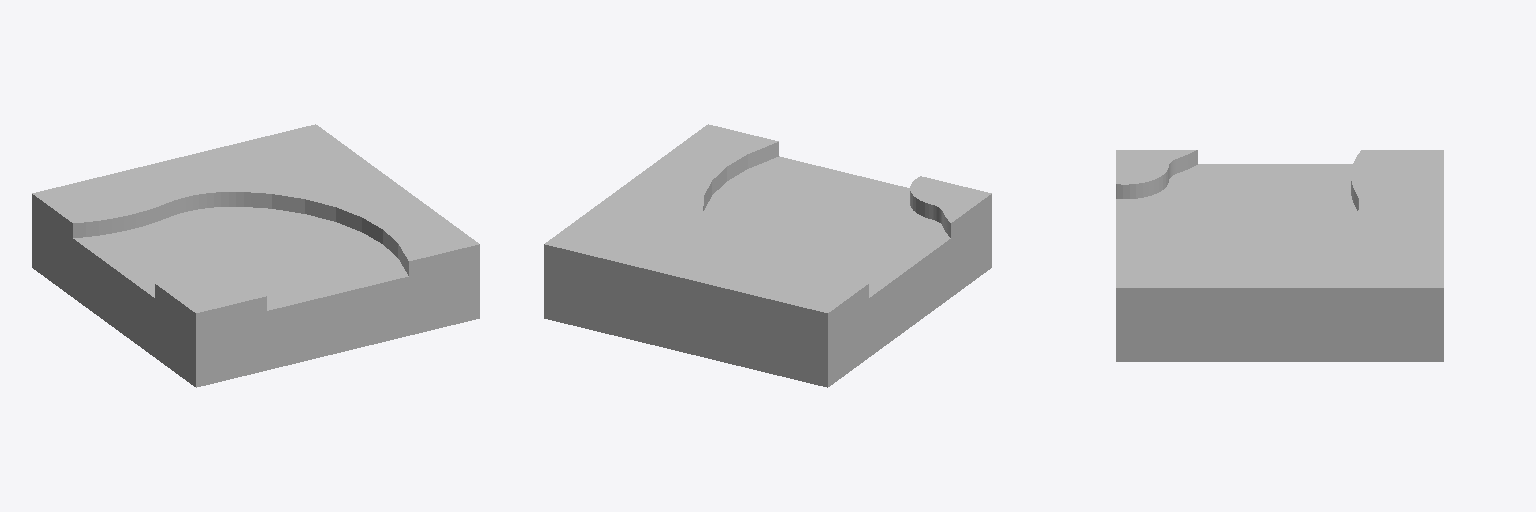
File: ground_dirtRiverCorner.obj
3 views of the same model, side by side, from view 1: azimuth 30°, elevation 25°; view 2: azimuth 150°, elevation 25°; view 3: azimuth 270°, elevation 25° (orthographic).
Parts seen in each view (by area): view 1: ground_dirtRiverCorner; view 2: ground_dirtRiverCorner; view 3: ground_dirtRiverCorner.
Part boxes in pixels (x1,y1,x2,y2): ground_dirtRiverCorner: (32,124,479,387); ground_dirtRiverCorner: (544,124,991,387); ground_dirtRiverCorner: (1116,150,1443,361).
Size of the model in its own units: 10 by 2.5 by 10.